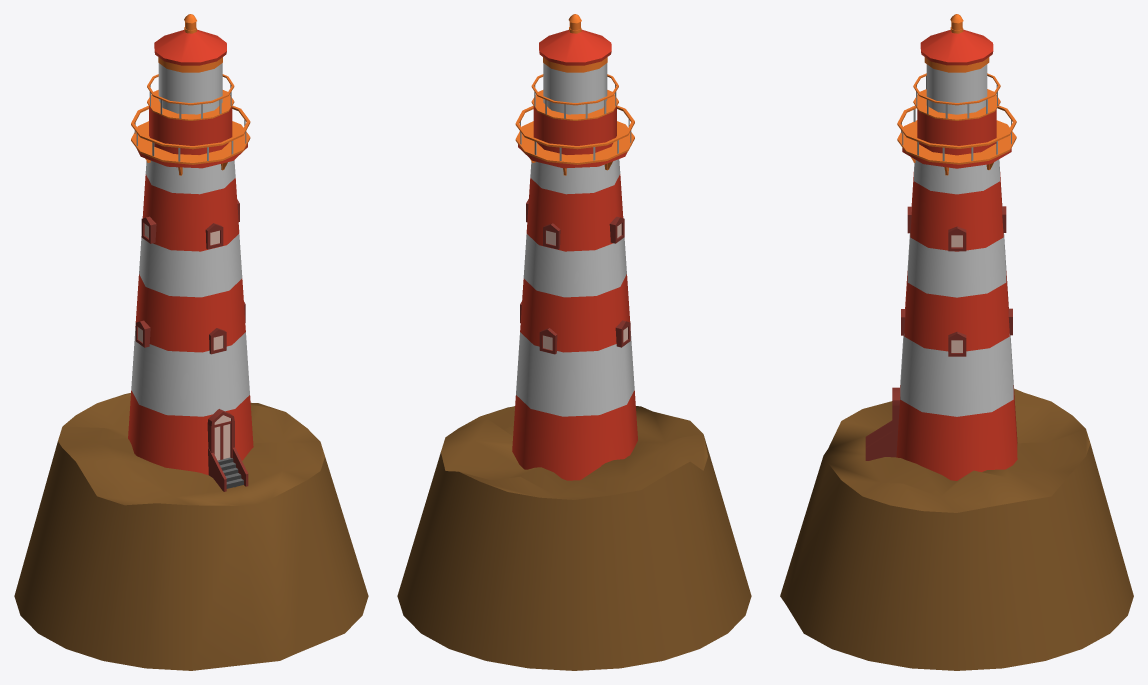
Rendered from Lighthouse.fbx.
The picture shows the model from 3 angles, left to right: view 1: azimuth 30°, elevation 25°; view 2: azimuth 150°, elevation 25°; view 3: azimuth 270°, elevation 25°; orthographic projection.
Visible parts, largest first — view 1: Lighthouse; view 2: Lighthouse; view 3: Lighthouse.
Boxes of the visible parts, x1=… form: Lighthouse: x1=14, y1=14, x2=368, y2=670; Lighthouse: x1=397, y1=14, x2=751, y2=670; Lighthouse: x1=780, y1=14, x2=1133, y2=670.
Size of the model in its own units: 3.59 by 6.51 by 3.59.
